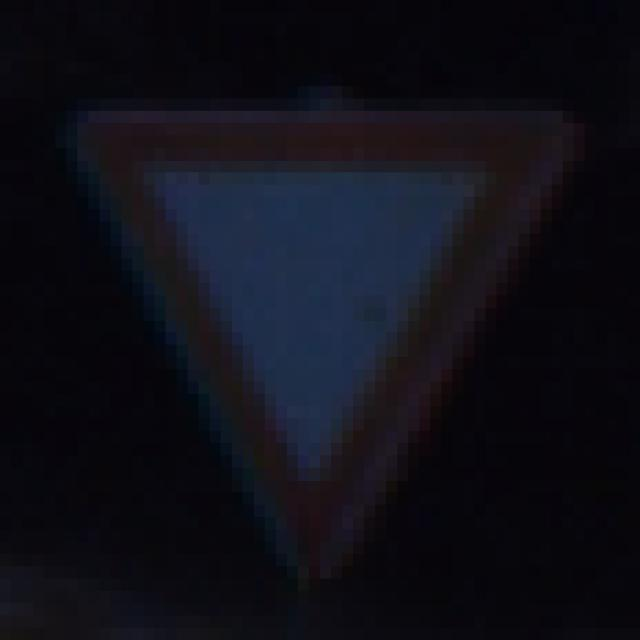Give Way: (67, 75, 586, 579)
